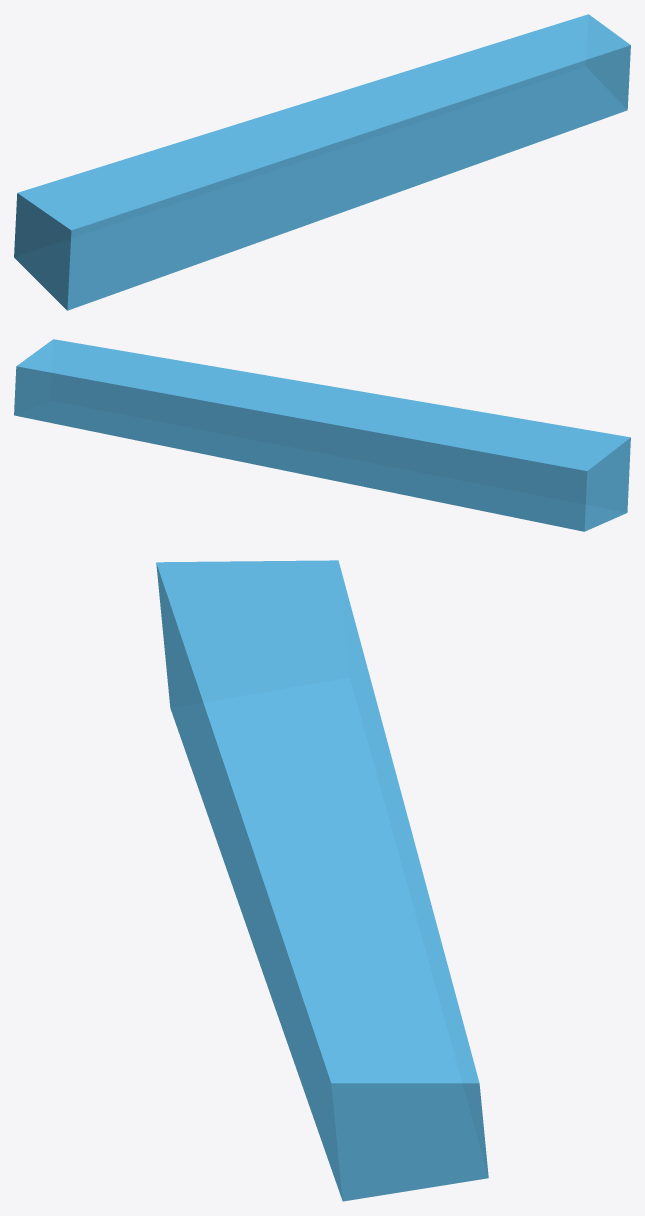
Rendered from Event_421364160_HErechit_12.fbx.
3 renders of one model, top to bottom at view 1: azimuth 30°, elevation 25°; view 2: azimuth 150°, elevation 25°; view 3: azimuth 270°, elevation 25°, orthographic. The views are drawn at different scales.
Visible parts, largest first — view 1: Model; view 2: Model; view 3: Model.
Boxes of the visible parts, left/top/right/bottom form: Model: left=14, top=14, right=630, bottom=310; Model: left=14, top=339, right=630, bottom=531; Model: left=156, top=560, right=488, bottom=1201.
Size of the model in its own units: 2.38 by 0.3093 by 0.6391.
